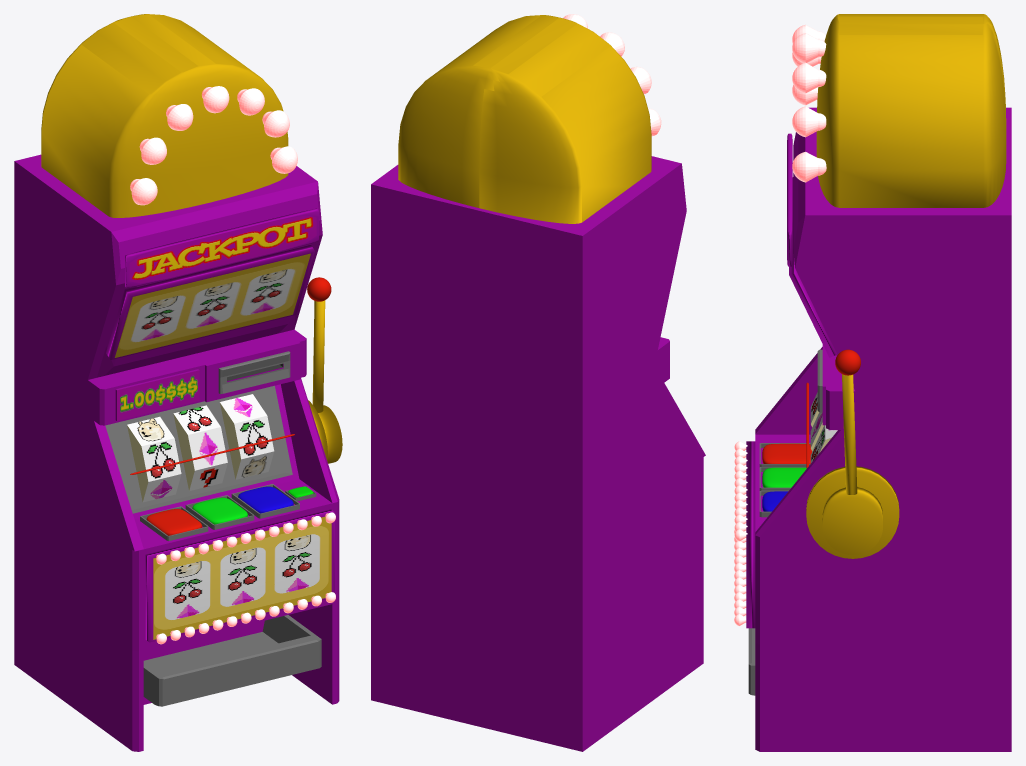
Rendered from slot_machine_one.glb.
3 views of the same model, side by side, from view 1: azimuth 30°, elevation 25°; view 2: azimuth 150°, elevation 25°; view 3: azimuth 270°, elevation 25° (orthographic). The views are drawn at different scales.
Visible parts, largest first — view 1: Cube, Sphere.001, Cube.015, Cube.024, Cylinder.002, Cube.016, Cube.025, Cube.017, Sphere.007, Cube.018, Cylinder.001, Cube.026 (+4 smaller); view 2: Cube, Sphere.001, Sphere.007; view 3: Cube, Sphere.001, Cylinder.001, Sphere.007, Cube.018, Cube.015, Sphere.002, Sphere.009, Cube.024, Cylinder.002, Cube.025, Cube.020 (+1 smaller).
Part boxes in pixels (x1=…): Cube: x1=14, y1=154, x2=339, y2=751; Sphere.001: x1=41, y1=14, x2=288, y2=217; Cube.015: x1=145, y1=509, x2=334, y2=642; Cube.024: x1=106, y1=245, x2=314, y2=359; Cylinder.002: x1=127, y1=394, x2=274, y2=502; Cube.016: x1=143, y1=615, x2=321, y2=706; Cube.025: x1=125, y1=208, x2=318, y2=287; Cube.017: x1=105, y1=385, x2=292, y2=513; Sphere.007: x1=130, y1=86, x2=297, y2=205; Cube.018: x1=146, y1=486, x2=293, y2=535; Cylinder.001: x1=307, y1=277, x2=342, y2=463; Cube.026: x1=115, y1=369, x2=199, y2=420; Cube: x1=371, y1=156, x2=705, y2=751; Sphere.001: x1=398, y1=15, x2=651, y2=223; Sphere.007: x1=563, y1=14, x2=661, y2=136; Cube: x1=755, y1=107, x2=1011, y2=751; Sphere.001: x1=816, y1=14, x2=1006, y2=207; Cylinder.001: x1=806, y1=349, x2=899, y2=558; Sphere.007: x1=792, y1=24, x2=826, y2=182; Cube.018: x1=762, y1=443, x2=811, y2=511; Cube.015: x1=746, y1=441, x2=755, y2=628; Sphere.002: x1=734, y1=441, x2=747, y2=541; Sphere.009: x1=734, y1=530, x2=746, y2=625; Cube.024: x1=789, y1=177, x2=835, y2=357; Cylinder.002: x1=810, y1=392, x2=837, y2=463; Cube.025: x1=787, y1=133, x2=792, y2=266; Cube.020: x1=759, y1=443, x2=810, y2=517.
Size of the model in its own units: 5.79 by 14.63 by 5.46.
21 materials, 11 textured.
